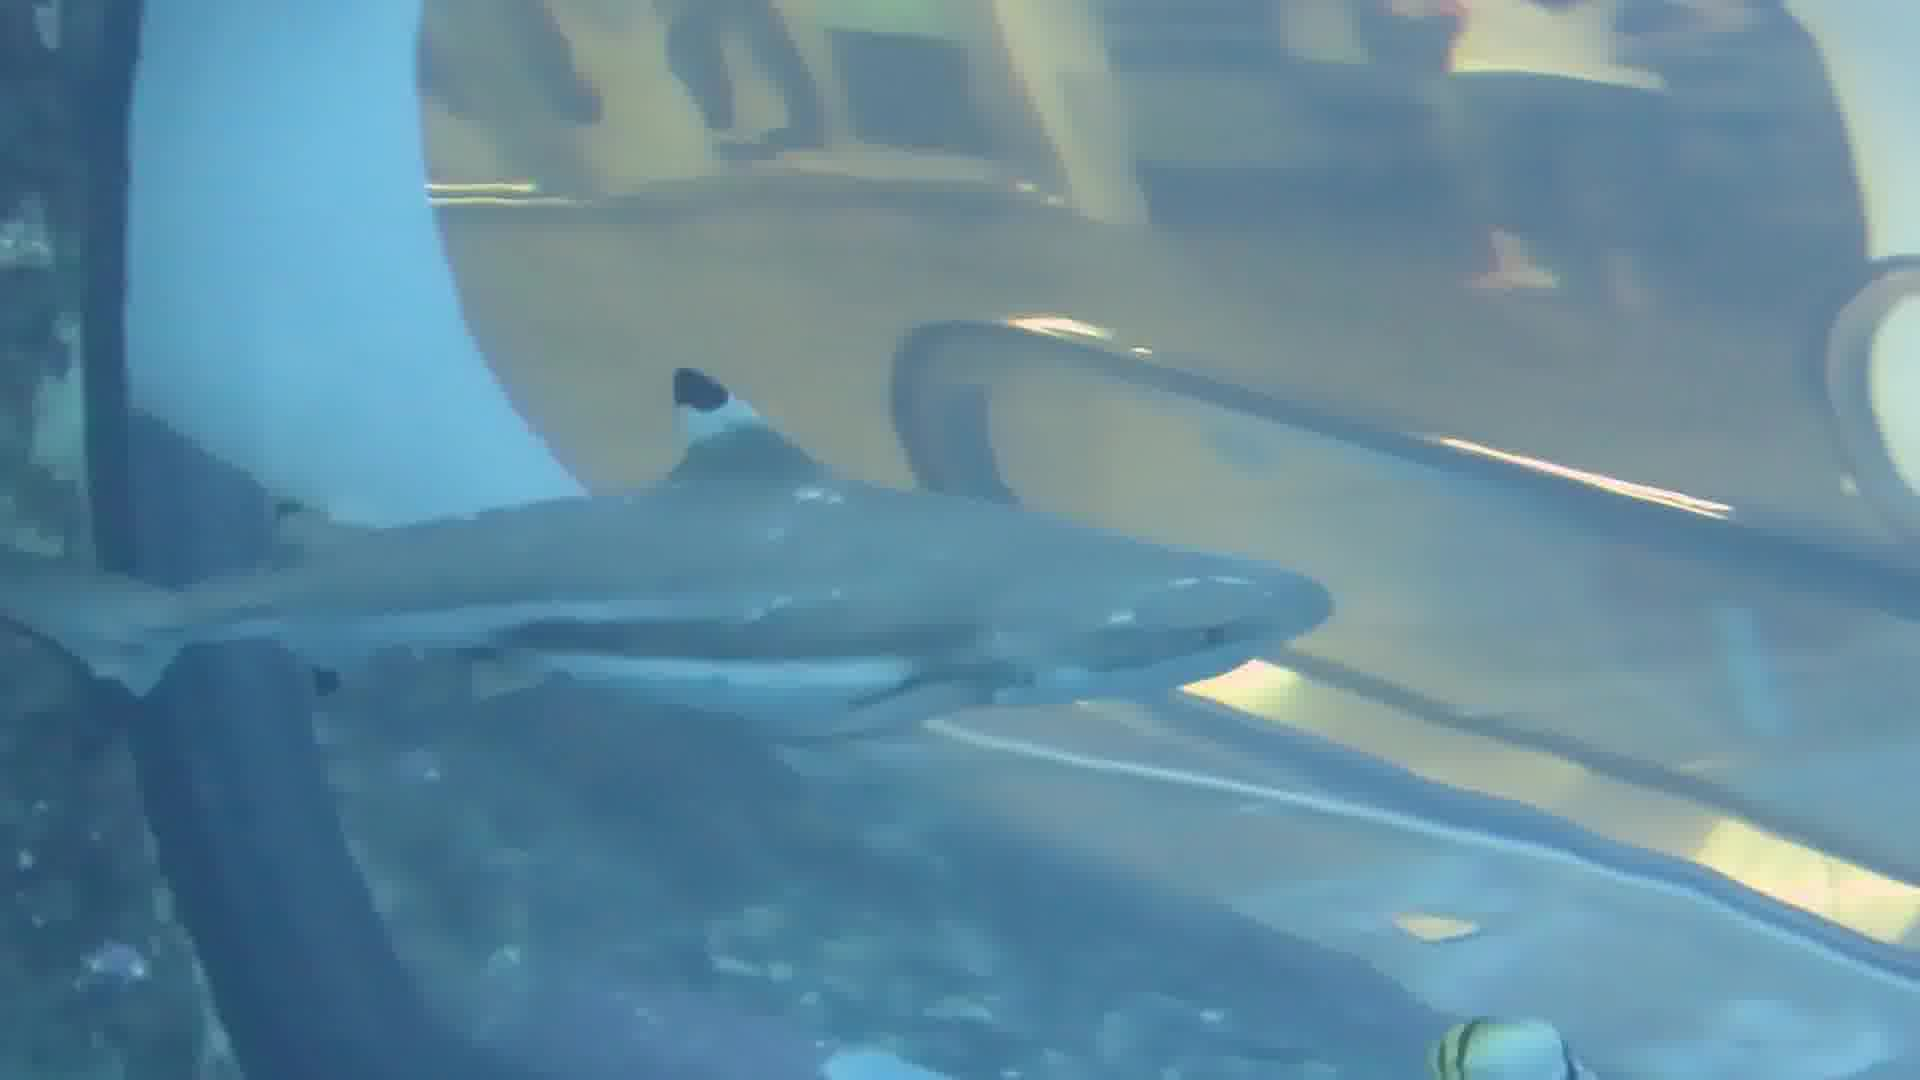Carcharhinus melanopterus: (5, 331, 1383, 793)
